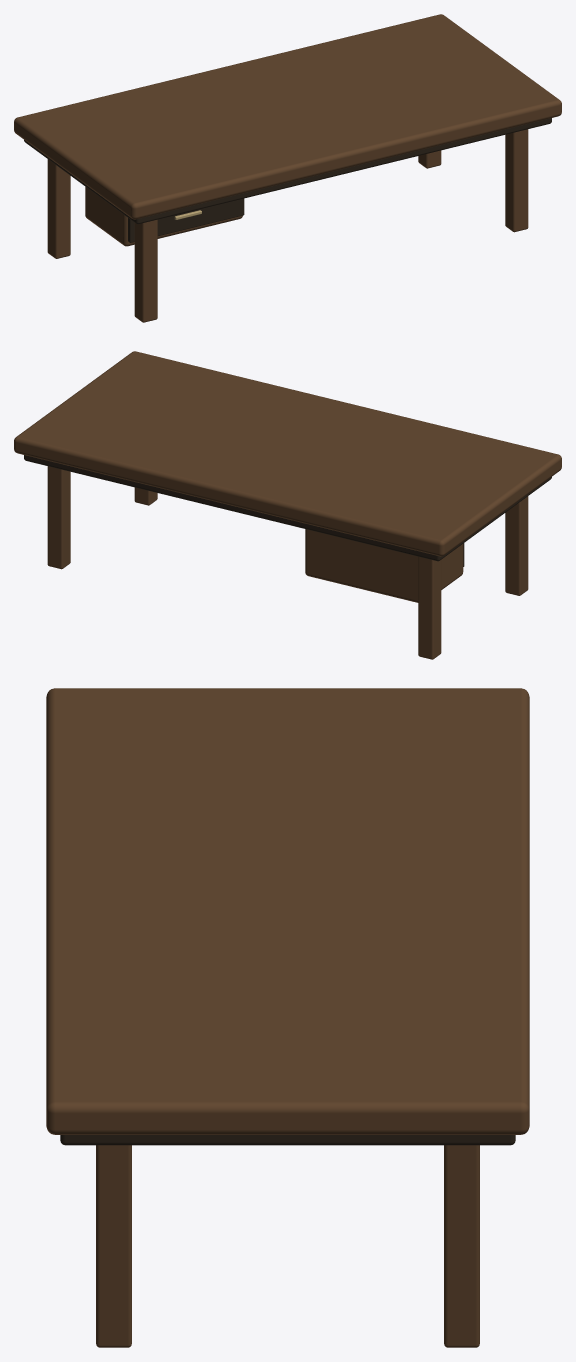
The model's file is desk.glb.
3 renders of one model, top to bottom at view 1: azimuth 30°, elevation 25°; view 2: azimuth 150°, elevation 25°; view 3: azimuth 270°, elevation 25°, orthographic. The views are drawn at different scales.
Visible parts, largest first — view 1: desk; view 2: desk; view 3: desk.
Boxes of the visible parts, x1,y1,x2,y2 form: desk: (14,14,561,322); desk: (14,351,561,659); desk: (46,688,529,1347).
Size of the model in its own units: 3.6 by 1.06 by 1.75.
